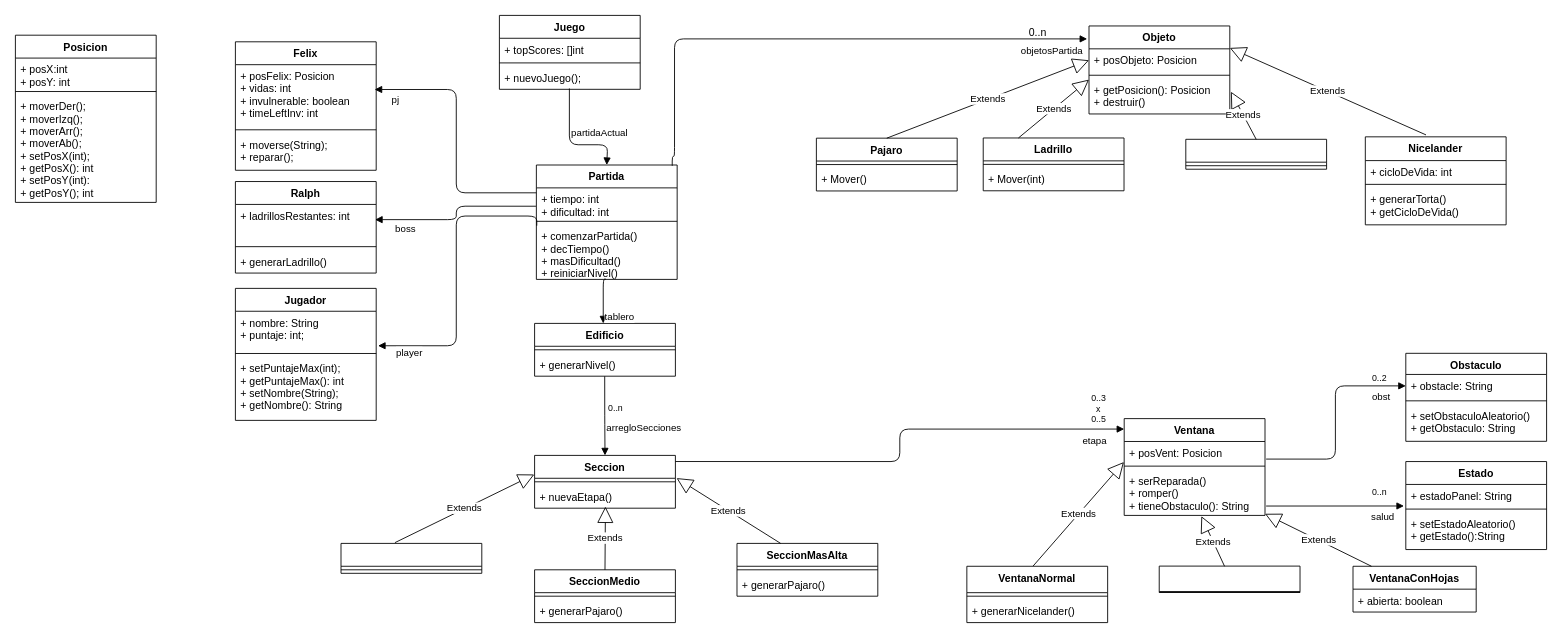
Image size: 1562x641. Some labels were removed from this diagram. Here are the shapes that lost their labels. From the top down, the centre of each, then its label:
At point (1256, 153): "Torta".
At point (411, 558): "SeccionSuelo".
At point (1229, 579): "VentanaSemicircular".
